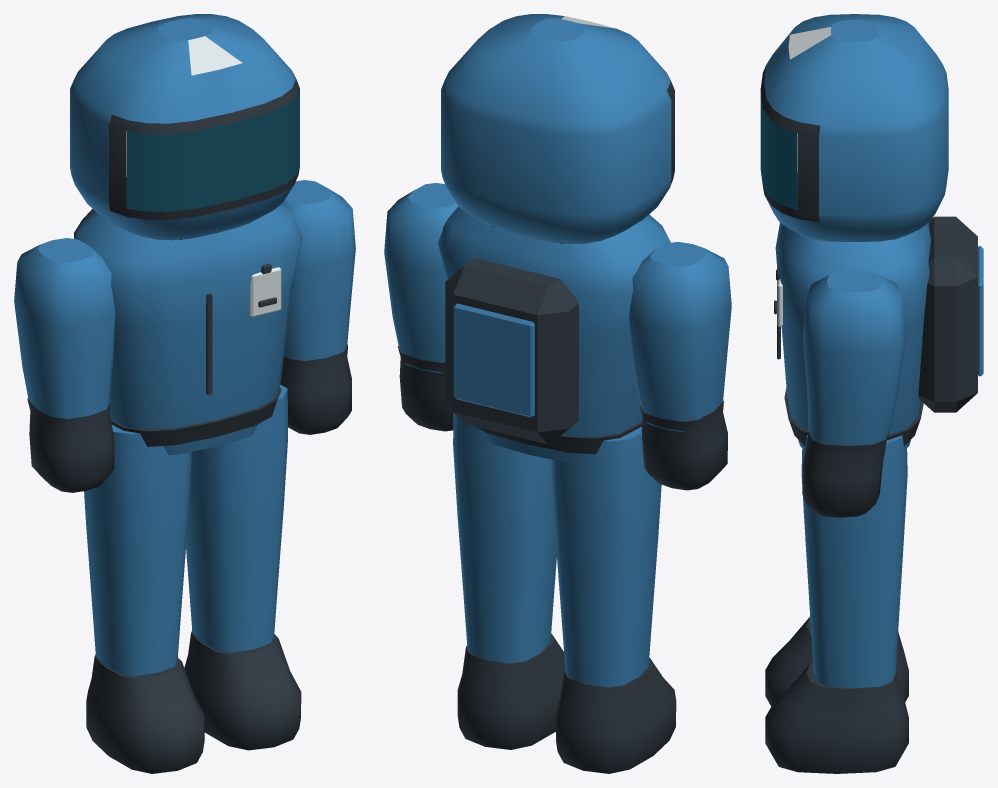
File: timbas-crew-character.glb
3 renders of one model, left to right at view 1: azimuth 30°, elevation 25°; view 2: azimuth 150°, elevation 25°; view 3: azimuth 270°, elevation 25°, orthographic.
Visible parts, largest first — view 1: BodyRig · Crew Body Color, Left Trouser Crew Body Color, Right Trouser Crew Body Color, Left Sleeve Crew Body Color, Helmet Shell Crew Visor, Left Technical Boot Crew Dark Uniform, Right Sleeve Crew Body Color, Right Technical Boot Crew Dark Uniform, BodyRig · Crew Dark Uniform, Left Glove and Cuff Crew Dark Uniform, Right Glove and Cuff Crew Dark Uniform, BodyRig · Crew Badge White; view 2: BodyRig · Crew Body Color, Left Trouser Crew Body Color, Right Trouser Crew Body Color, Left Sleeve Crew Body Color, BodyRig · Crew Dark Uniform, Left Technical Boot Crew Dark Uniform, Right Sleeve Crew Body Color, Right Technical Boot Crew Dark Uniform, Left Glove and Cuff Crew Dark Uniform, Right Glove and Cuff Crew Dark Uniform; view 3: BodyRig · Crew Body Color, Right Trouser Crew Body Color, Right Sleeve Crew Body Color, BodyRig · Crew Dark Uniform, Right Technical Boot Crew Dark Uniform, Right Glove and Cuff Crew Dark Uniform, Helmet Shell Crew Visor, Left Technical Boot Crew Dark Uniform, BodyRig · Crew Badge White.
Boxes of the visible parts, bbox=[...] form: BodyRig · Crew Body Color: bbox=[70, 14, 303, 455]; Left Trouser Crew Body Color: bbox=[84, 425, 191, 675]; Right Trouser Crew Body Color: bbox=[186, 384, 287, 652]; Left Sleeve Crew Body Color: bbox=[14, 238, 115, 418]; Helmet Shell Crew Visor: bbox=[127, 90, 299, 211]; Left Technical Boot Crew Dark Uniform: bbox=[86, 654, 204, 773]; Right Sleeve Crew Body Color: bbox=[283, 180, 355, 360]; Right Technical Boot Crew Dark Uniform: bbox=[184, 630, 301, 750]; BodyRig · Crew Dark Uniform: bbox=[74, 73, 299, 446]; Left Glove and Cuff Crew Dark Uniform: bbox=[27, 398, 114, 492]; Right Glove and Cuff Crew Dark Uniform: bbox=[280, 344, 351, 434]; BodyRig · Crew Badge White: bbox=[188, 36, 281, 317]; BodyRig · Crew Body Color: bbox=[437, 14, 671, 462]; Left Trouser Crew Body Color: bbox=[551, 426, 661, 687]; Right Trouser Crew Body Color: bbox=[453, 412, 556, 663]; Left Sleeve Crew Body Color: bbox=[629, 242, 731, 432]; BodyRig · Crew Dark Uniform: bbox=[445, 74, 674, 454]; Left Technical Boot Crew Dark Uniform: bbox=[555, 657, 676, 773]; Right Sleeve Crew Body Color: bbox=[384, 183, 458, 373]; Right Technical Boot Crew Dark Uniform: bbox=[457, 634, 565, 749]; Left Glove and Cuff Crew Dark Uniform: bbox=[639, 400, 727, 490]; Right Glove and Cuff Crew Dark Uniform: bbox=[397, 346, 453, 431]; BodyRig · Crew Body Color: bbox=[764, 14, 983, 447]; Right Trouser Crew Body Color: bbox=[801, 435, 907, 688]; Right Sleeve Crew Body Color: bbox=[802, 270, 906, 449]; BodyRig · Crew Dark Uniform: bbox=[760, 65, 977, 446]; Right Technical Boot Crew Dark Uniform: bbox=[765, 662, 908, 773]; Right Glove and Cuff Crew Dark Uniform: bbox=[802, 430, 889, 517]; Helmet Shell Crew Visor: bbox=[760, 93, 797, 210]; Left Technical Boot Crew Dark Uniform: bbox=[765, 616, 908, 706]; BodyRig · Crew Badge White: bbox=[777, 27, 831, 326].
Bounding box in the file's own units: 0.924 × 1.94 × 0.559.
